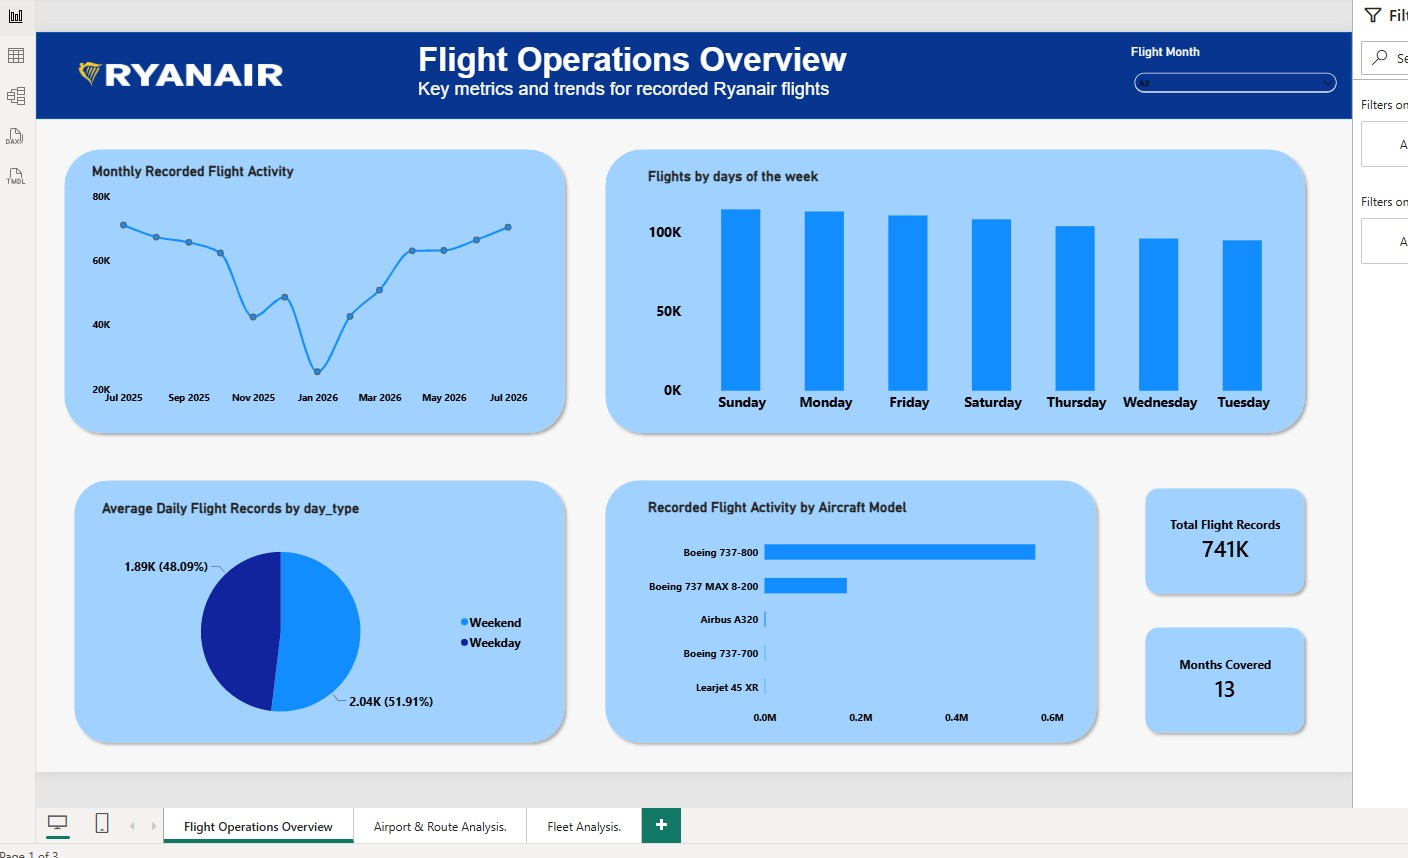

The dashboard page shown, as its layout file describes it:
{"tool":"powerbi","page":{"name":"Flight Operations Overview","canvas":[1920,1080],"ordinal":0},"visuals":[{"type":"shape","box":[1609.8,656.6,250,172],"z":0},{"type":"shape","box":[1609.8,859.9,250,172],"z":1000},{"type":"shape","box":[46.7,644.5,733.4,400.6],"z":2000},{"type":"shape","box":[820.7,644.5,734.9,400.6],"z":3000},{"type":"shape","box":[820.7,162.6,1039.1,432.2],"z":4000},{"type":"shape","box":[31.6,162.6,748.4,432.2],"z":5000},{"type":"cardVisual","fields":{"Data":["ryanair_project ryanair_flights.Total Flight Records"]},"box":[1633.9,677.6,202,128],"z":6000},{"type":"lineChart","title":"Monthly Recorded Flight Activity","fields":{"Category":["ryanair_project ryanair_flights.dof.Variation.Date Hierarchy.Year","ryanair_project ryanair_flights.dof.Variation.Date Hierarchy.Quarter","ryanair_project ryanair_flights.dof.Variation.Date Hierarchy.Month","ryanair_project ryanair_flights.dof.Variation.Date Hierarchy.Day"],"Y":["ryanair_project ryanair_flights.Total Flight Records"]},"box":[66.3,176.2,667.1,388.5],"z":7000},{"type":"clusteredBarChart","title":"Recorded Flight Activity by Aircraft Model","fields":{"Category":["ryanair_project ryanair_flights.aircraft_model_clean"],"Y":["ryanair_project ryanair_flights.Total Flight Records"]},"box":[876.4,667.1,638.5,364.4],"z":8000},{"type":"pieChart","fields":{"Category":["ryanair_project ryanair_flights.day_type"],"Y":["ryanair_project ryanair_flights.Average Daily Flight Records"]},"box":[79.8,668.6,653.6,376.5],"z":9000},{"type":"cardVisual","fields":{"Data":["ryanair_project ryanair_flights.Months Covered"]},"box":[1633.9,880.9,202,128],"z":10000},{"type":"clusteredColumnChart","title":"Flights by days of the week","fields":{"Category":["ryanair_project ryanair_flights.days_of_the_week"],"Y":["ryanair_project ryanair_flights.Total Flight Records"]},"box":[876.4,183.7,980.3,391.5],"z":11000},{"type":"shape","box":[0,0,1920,127.1],"z":12000},{"type":"slicer","title":"Flight Month","fields":{"Values":["ryanair_project ryanair_flights.Month Start"]},"box":[1597.7,18.1,305,91.6],"z":13000},{"type":"image","box":[0,13.9,420.8,95.9],"z":13001},{"type":"textbox","box":[557.2,13.6,935,96.4],"z":13002}]}

Visuals, with their boxes on the page's 1920x1080 design canvas (x1, y1, x2, y2). These are canvas units, not pixel positions in the 1408x858 screenshot, which may show the page scaled, cropped or inside an application window:
shape: <region>1610, 657, 1860, 829</region>
shape: <region>1610, 860, 1860, 1032</region>
shape: <region>47, 644, 780, 1045</region>
shape: <region>821, 644, 1556, 1045</region>
shape: <region>821, 163, 1860, 595</region>
shape: <region>32, 163, 780, 595</region>
cardVisual - ryanair_project ryanair_flights.Total Flight Records: <region>1634, 678, 1836, 806</region>
"Monthly Recorded Flight Activity" lineChart: <region>66, 176, 733, 565</region>
"Recorded Flight Activity by Aircraft Model" clusteredBarChart: <region>876, 667, 1515, 1032</region>
pieChart - ryanair_project ryanair_flights.day_type x ryanair_project ryanair_flights.Average Daily Flight Records: <region>80, 669, 733, 1045</region>
cardVisual - ryanair_project ryanair_flights.Months Covered: <region>1634, 881, 1836, 1009</region>
"Flights by days of the week" clusteredColumnChart: <region>876, 184, 1857, 575</region>
shape: <region>0, 0, 1920, 127</region>
"Flight Month" slicer: <region>1598, 18, 1903, 110</region>
image: <region>0, 14, 421, 110</region>
textbox: <region>557, 14, 1492, 110</region>
